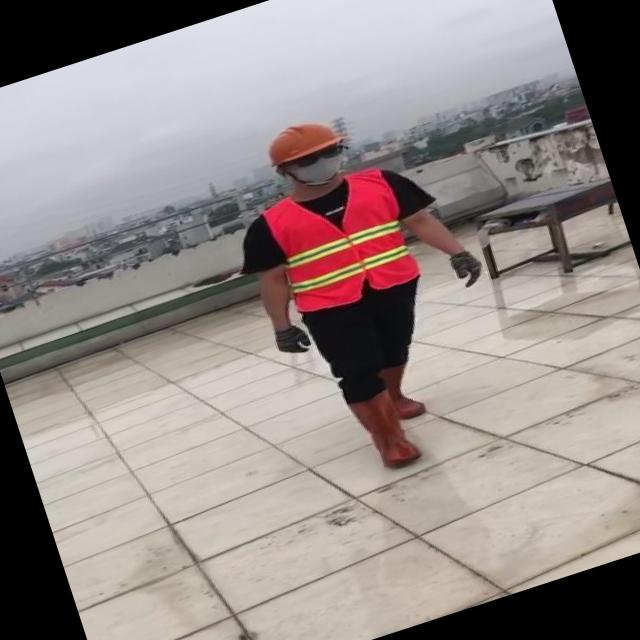hard_hat: (255, 109, 348, 172)
safety_vest: (259, 164, 424, 320)
vehicle: (196, 70, 547, 507)
work_boots: (346, 386, 428, 480), (375, 356, 429, 424)
